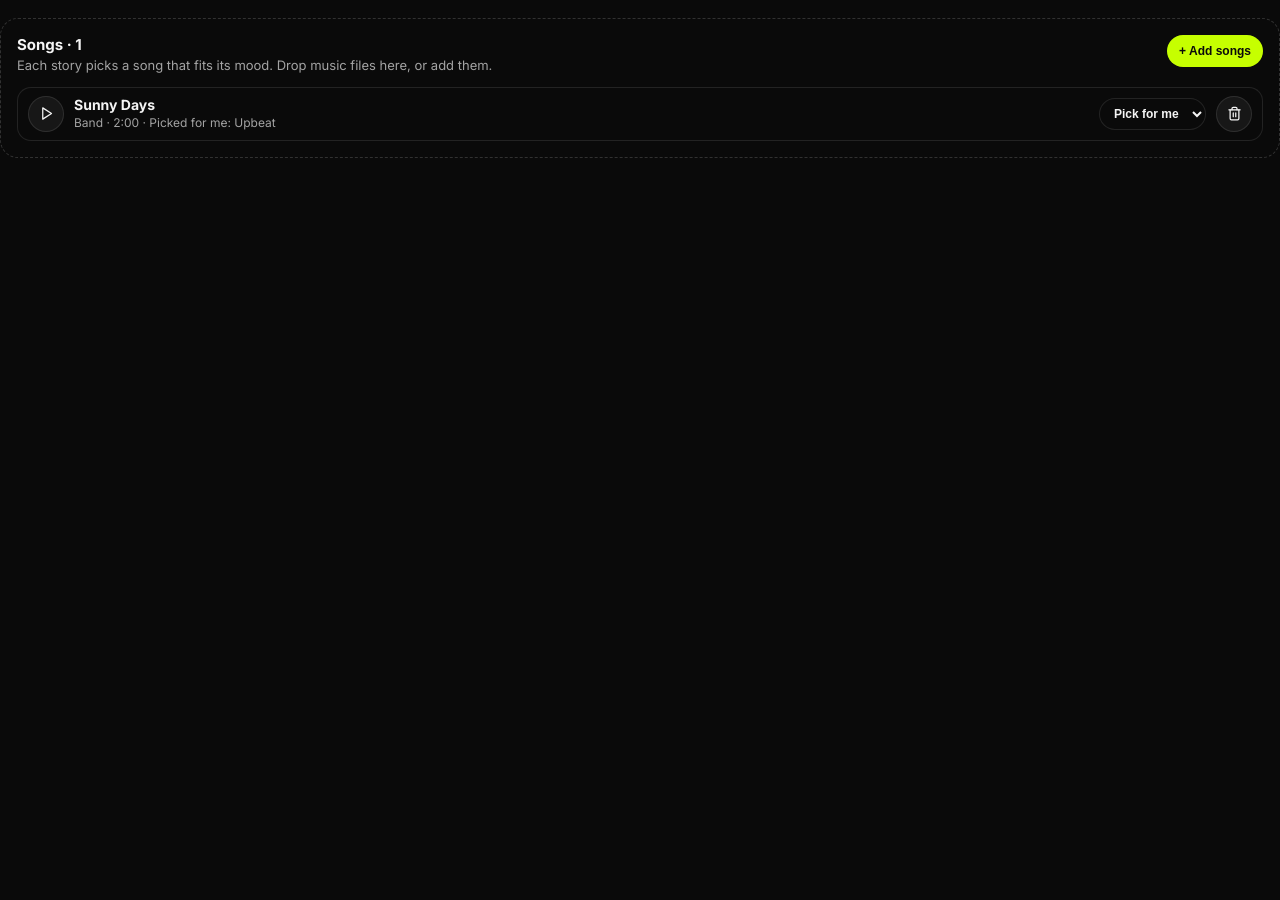
Test: Settings → Music (round 2, #6) › lists songs, changes a mood and asks before removing one
Expected: the text "Band · 2:00 · Picked for me: Upbeat" is shown, [74,115,276,130]
Step 1. Select "Nostalgic" in the dropdown named "Mood for Sunny Days" → (1152, 114), box [1099,98,1206,130]
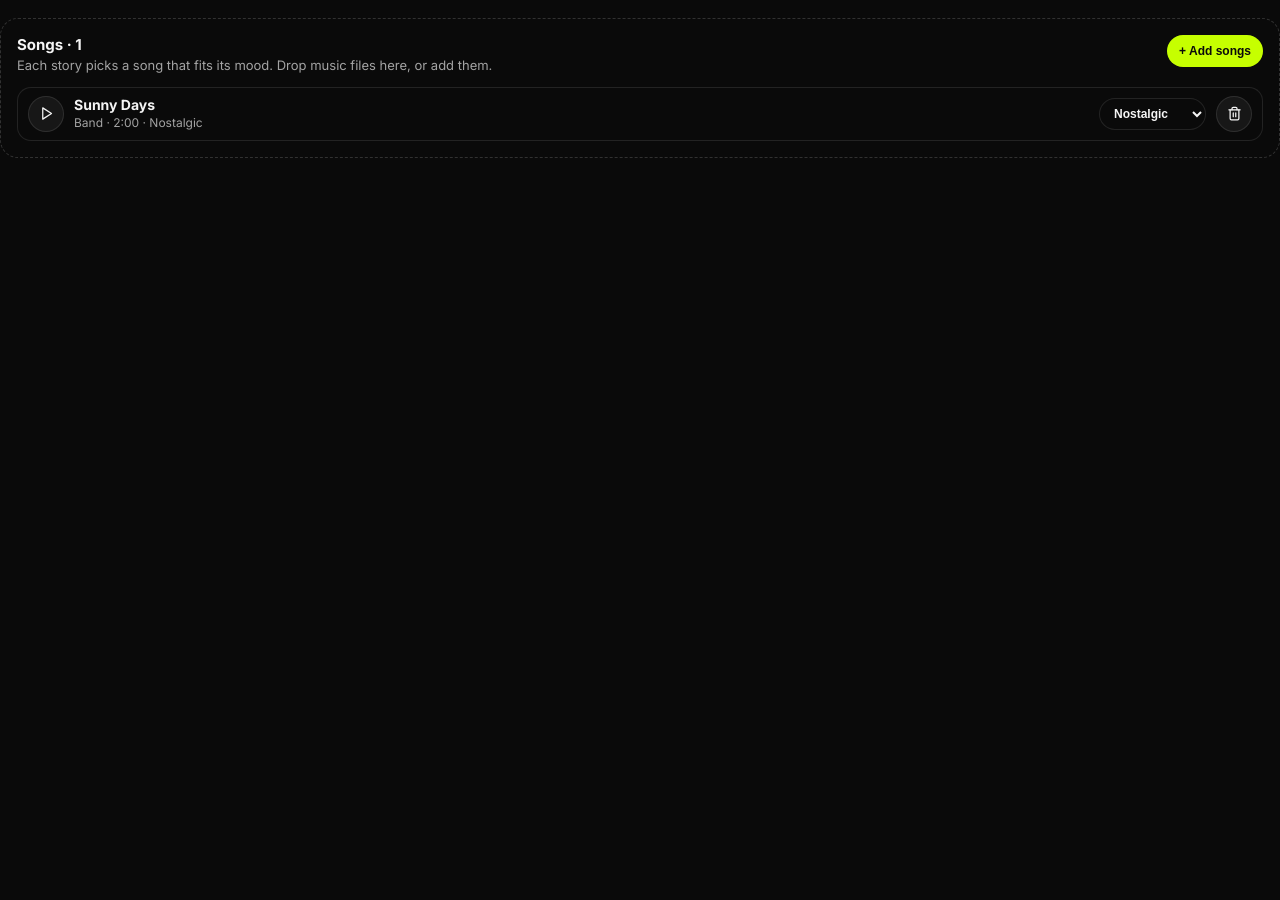
Now the text "Band · 2:00 · Nostalgic" is shown, box [74,115,203,130]
Step 2. Click the button named "Remove Sunny Days" → (1234, 114), box [1216,96,1252,132]
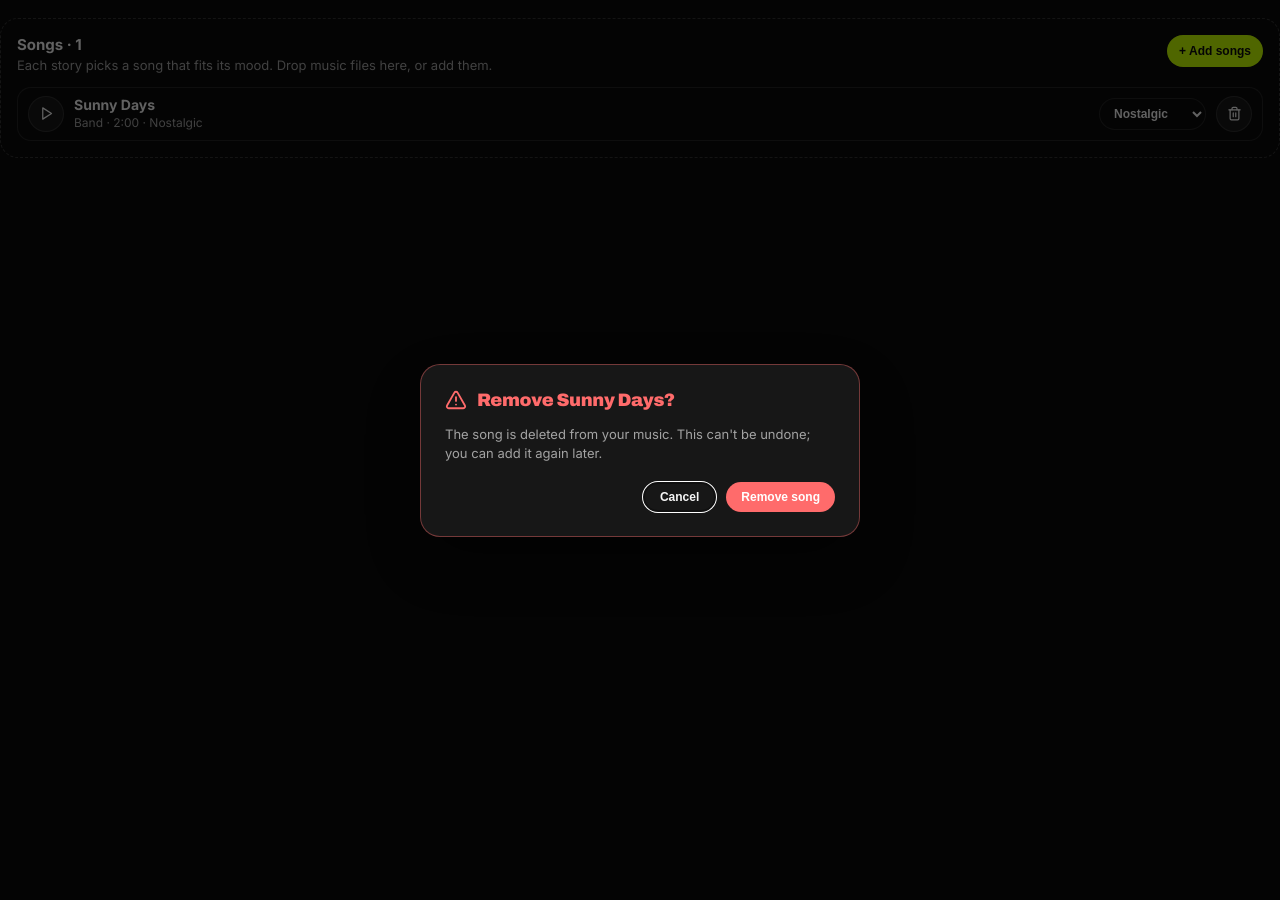
Step 3. Click the button "Cancel" → (680, 496), box [643,482,716,512]
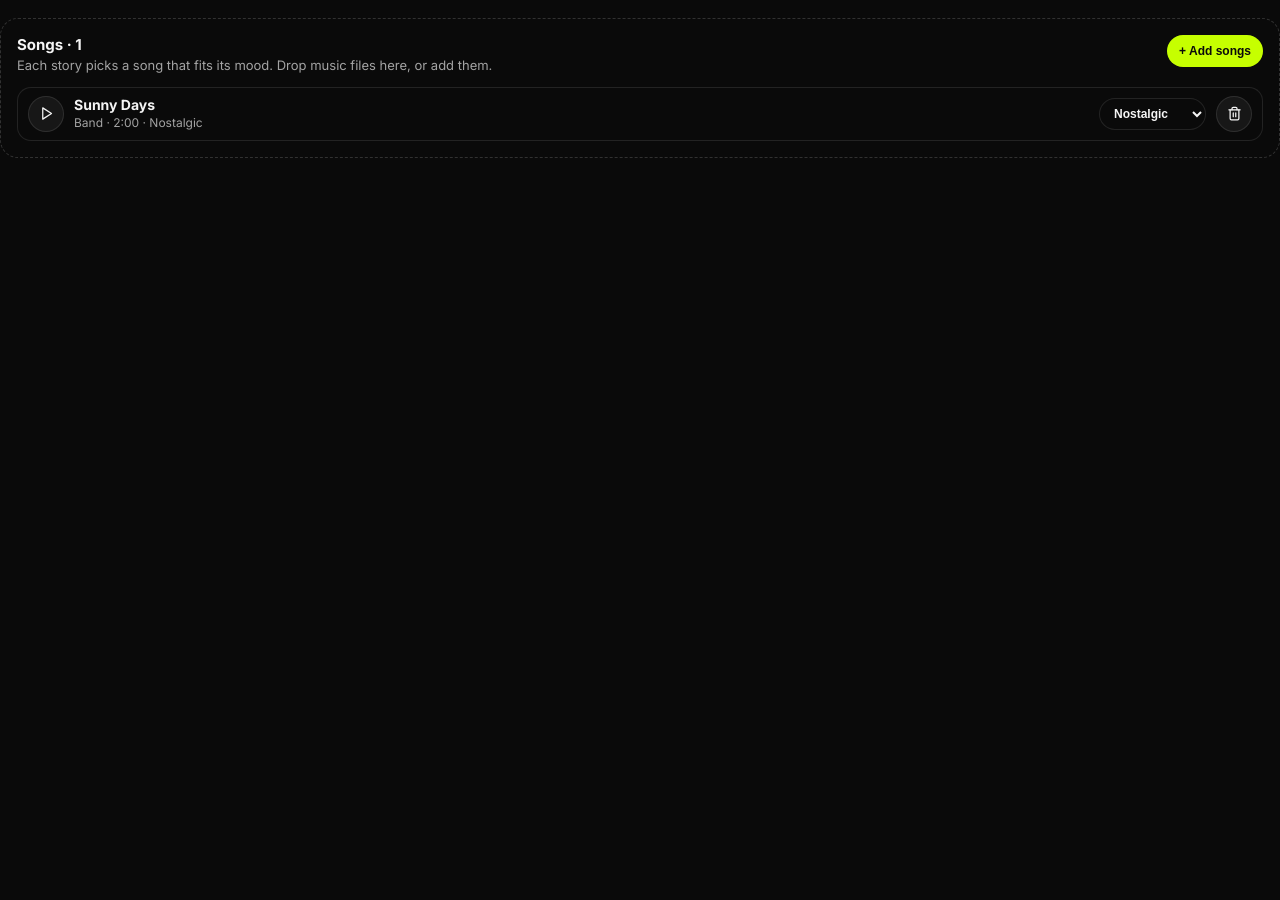
Step 4. Click the button named "Remove Sunny Days" → (1234, 114), box [1216,96,1252,132]
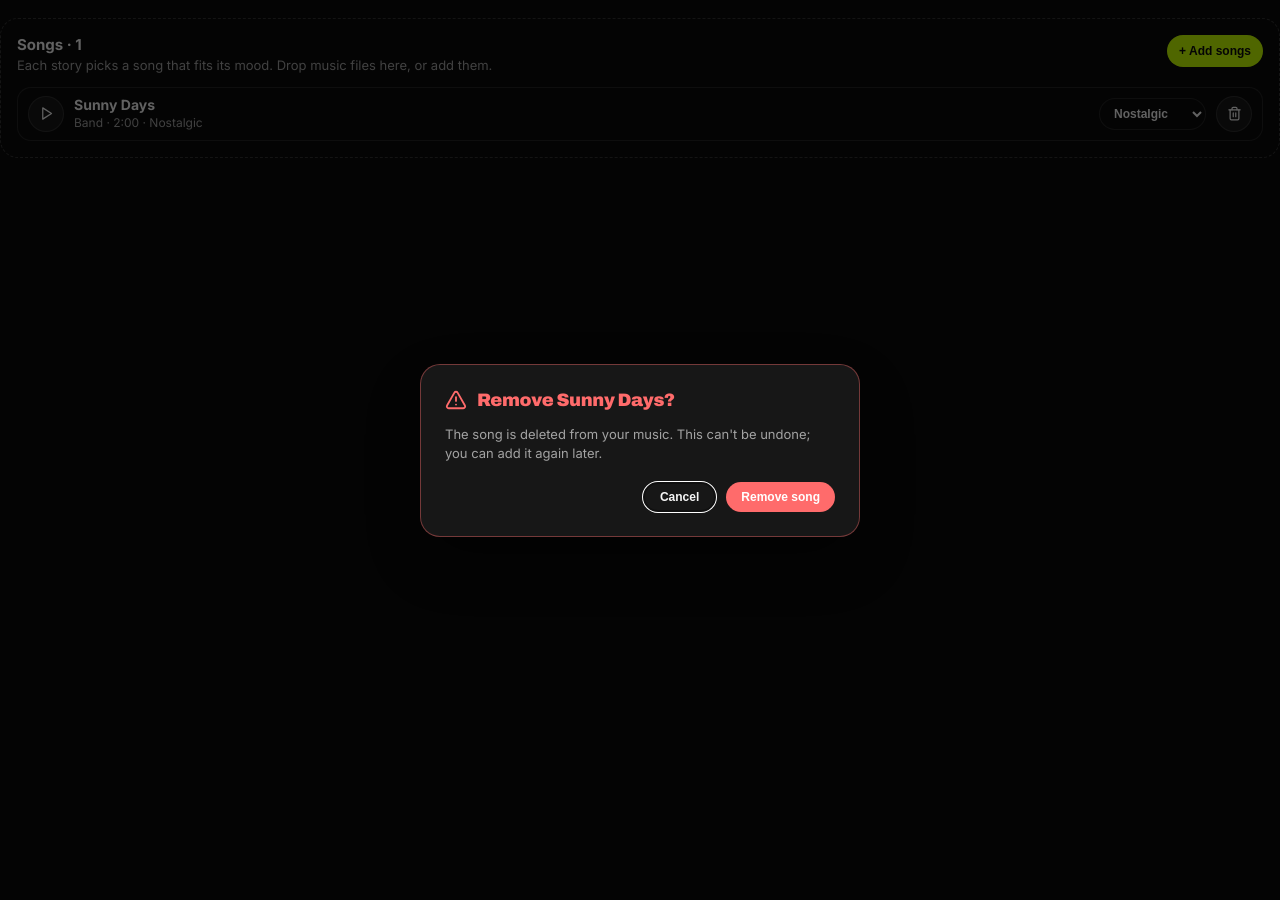
Step 5. Click the button "Remove song" → (781, 496), box [726,482,835,512]
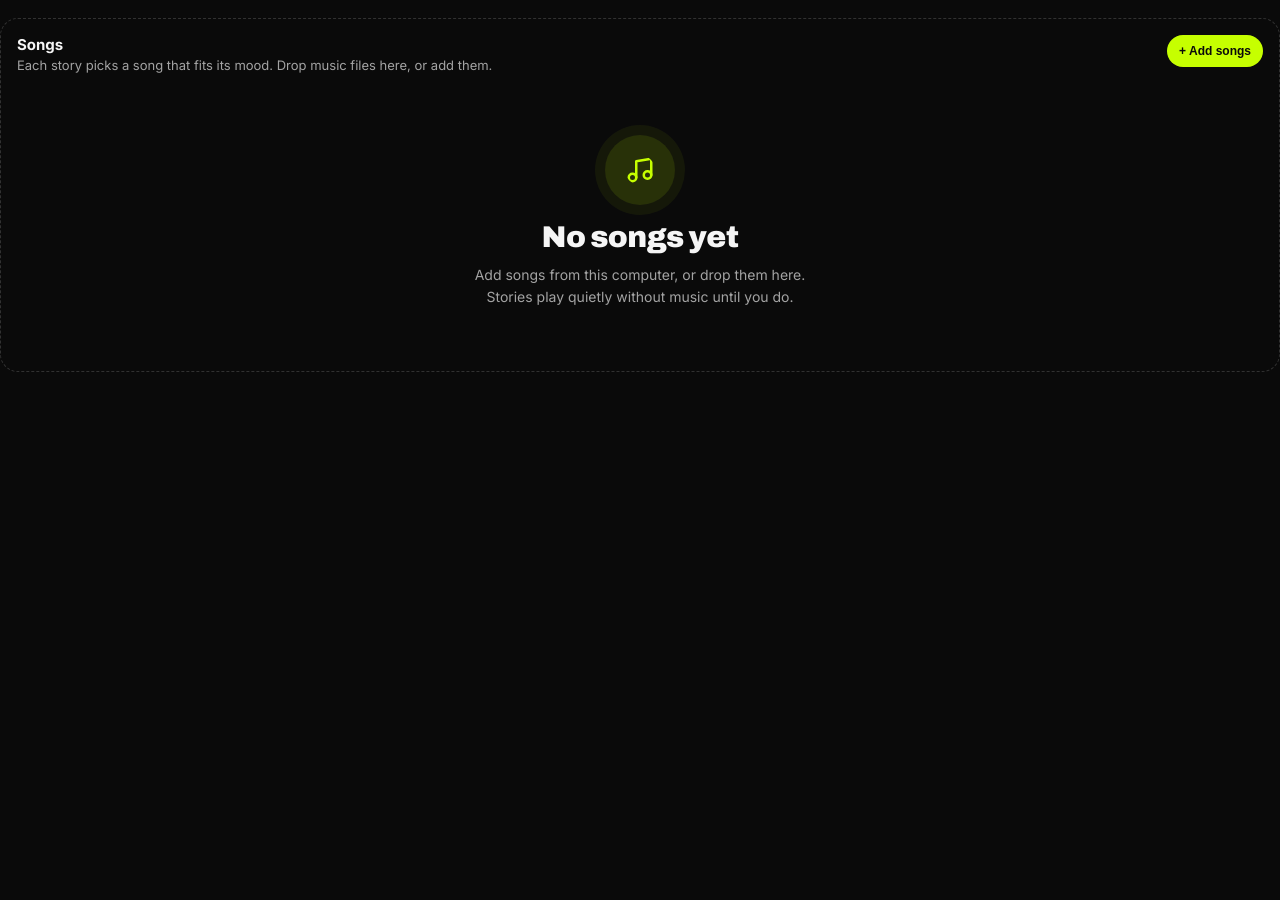
Now the heading "No songs yet" is shown, box [542,221,738,254]
